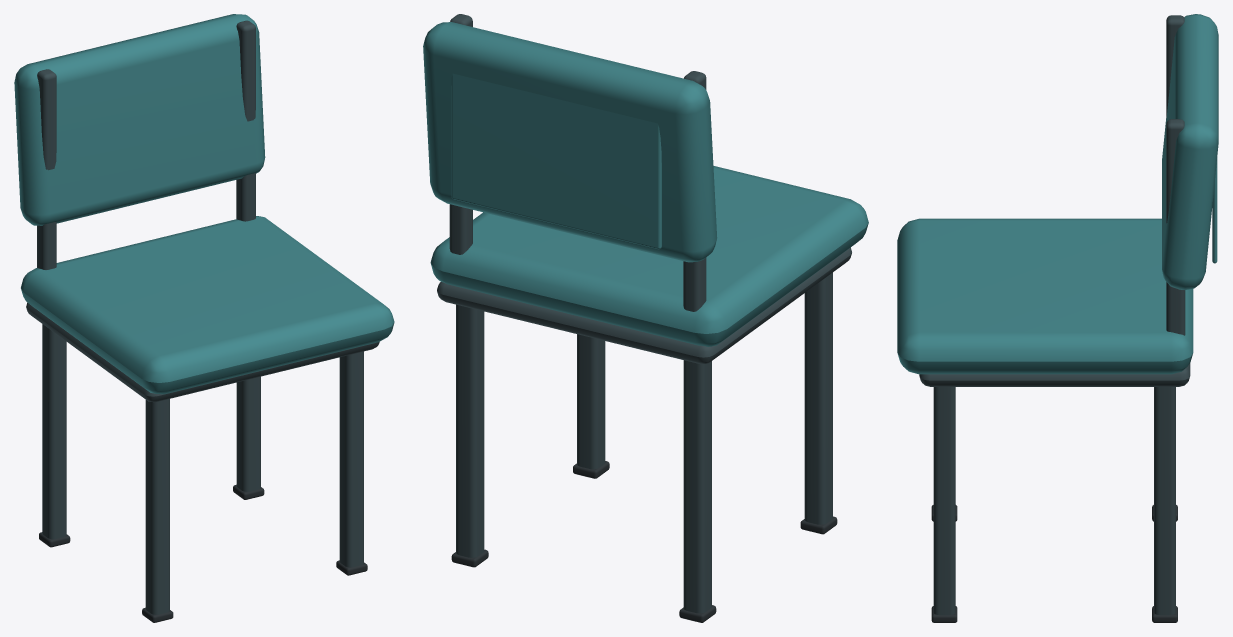
File: HotelTogether-DiningChair.glb
3 views of the same model, side by side, from view 1: azimuth 30°, elevation 25°; view 2: azimuth 150°, elevation 25°; view 3: azimuth 270°, elevation 25° (orthographic). The views are drawn at different scales.
Visible parts, largest first — view 1: Chair_SeatCushion, Chair_BackCushion, Chair_Leg, Chair_Leg.002, Chair_Leg.001, Chair_SeatFrame, Chair_Leg.003, Chair_BackPost, Chair_BackPost.001; view 2: Chair_SeatCushion, Chair_BackTrim, Chair_BackCushion, Chair_Leg.001, Chair_Leg.003, Chair_Leg, Chair_SeatFrame, Chair_Leg.002, Chair_BackPost, Chair_BackPost.001; view 3: Chair_SeatCushion, Chair_BackCushion, Chair_Leg.002, Chair_Leg.003, Chair_SeatFrame, Chair_BackPost.001, Chair_BackPost, Chair_BackTrim.
Boxes of the visible parts, x1,y1,x2,y2 form: Chair_SeatCushion: (21, 216, 394, 394); Chair_BackCushion: (14, 14, 265, 225); Chair_Leg: (145, 399, 169, 614); Chair_Leg.002: (339, 351, 363, 567); Chair_Leg.001: (42, 324, 66, 539); Chair_SeatFrame: (26, 302, 379, 402); Chair_Leg.003: (236, 376, 260, 491); Chair_BackPost: (37, 69, 56, 269); Chair_BackPost.001: (236, 20, 255, 221); Chair_SeatCushion: (430, 165, 868, 346); Chair_BackTrim: (451, 73, 661, 249); Chair_BackCushion: (423, 22, 717, 262); Chair_Leg.001: (683, 360, 711, 613); Chair_Leg.003: (456, 304, 484, 557); Chair_Leg: (804, 272, 832, 524); Chair_SeatFrame: (437, 247, 851, 364); Chair_Leg.002: (577, 334, 605, 469); Chair_BackPost: (683, 71, 706, 311); Chair_BackPost.001: (449, 14, 472, 254); Chair_SeatCushion: (897, 218, 1193, 374); Chair_BackCushion: (1162, 14, 1218, 289); Chair_Leg.002: (933, 387, 955, 615); Chair_Leg.003: (1154, 387, 1175, 615); Chair_SeatFrame: (919, 363, 1190, 386); Chair_BackPost.001: (1166, 119, 1185, 335); Chair_BackPost: (1166, 15, 1184, 117); Chair_BackTrim: (1212, 158, 1217, 263).
Bounding box in the file's own units: 0.49 × 0.873 × 0.5101.
